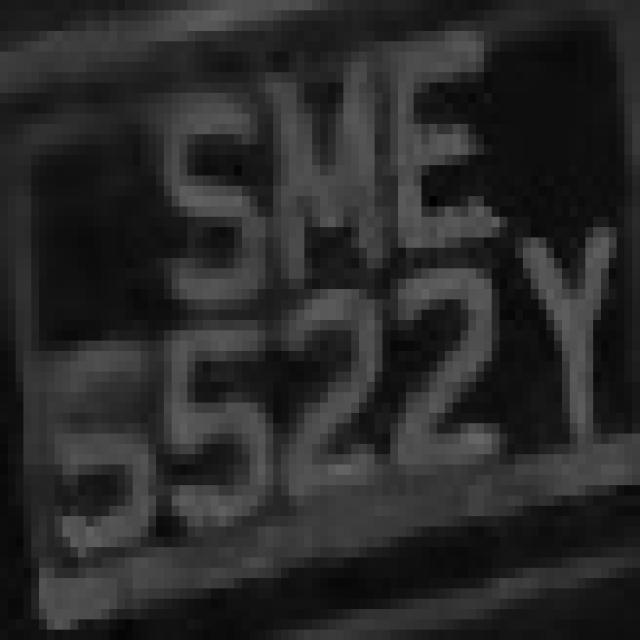2: (250, 268, 398, 547), (367, 238, 507, 485)
5: (132, 278, 258, 568), (8, 310, 148, 557)
E: (359, 10, 531, 268)
M: (242, 10, 375, 320)
S: (133, 41, 265, 310)
Y: (507, 176, 640, 485)
